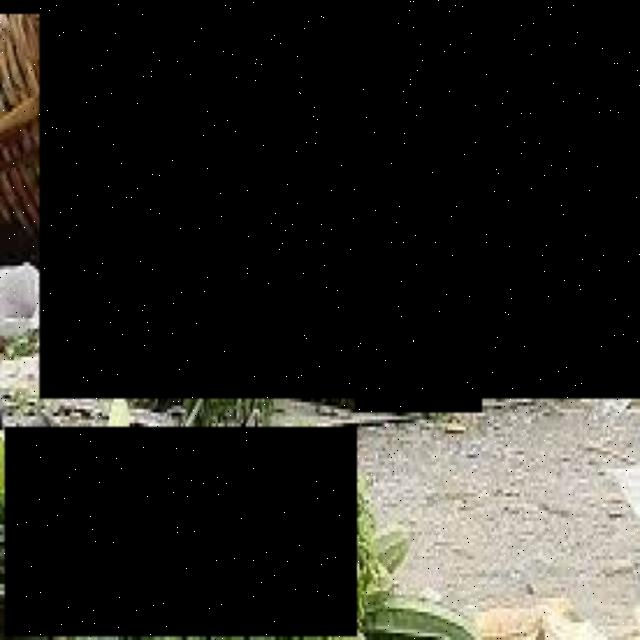Fiddlehead_Ferns: (40, 0, 640, 399), (88, 3, 524, 350), (4, 426, 357, 640), (356, 50, 483, 414), (0, 0, 216, 14)
